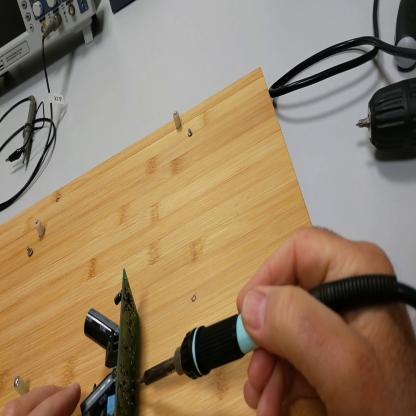electric screwdriver: (354, 77, 416, 158)
hand: (236, 223, 416, 415), (6, 380, 82, 415)
high voltage board: (81, 268, 142, 415)
oscilloscope: (2, 2, 103, 76)
oscilloscope probe tip: (23, 94, 38, 165)
screwdriver-: (396, 3, 416, 72)
welder probe tip: (138, 273, 403, 386)
working area: (2, 63, 318, 416)
